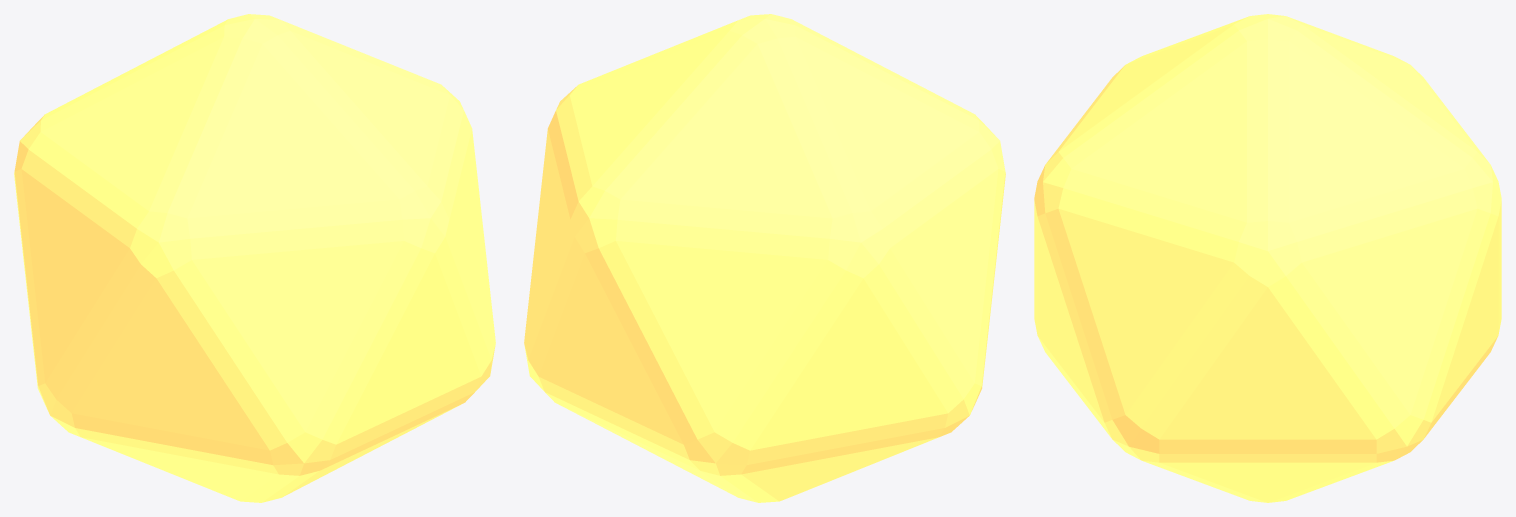
File: test_gem.glb
The picture shows the model from 3 angles, left to right: view 1: azimuth 30°, elevation 25°; view 2: azimuth 150°, elevation 25°; view 3: azimuth 270°, elevation 25°; orthographic projection.
Visible parts, largest first — view 1: TestGem; view 2: TestGem; view 3: TestGem.
Boxes of the visible parts, bbox=[...] form: TestGem: bbox=[14, 14, 495, 502]; TestGem: bbox=[524, 14, 1005, 502]; TestGem: bbox=[1034, 14, 1501, 502].
Bounding box in the file's own units: 1.73 × 1.89 × 1.67.
